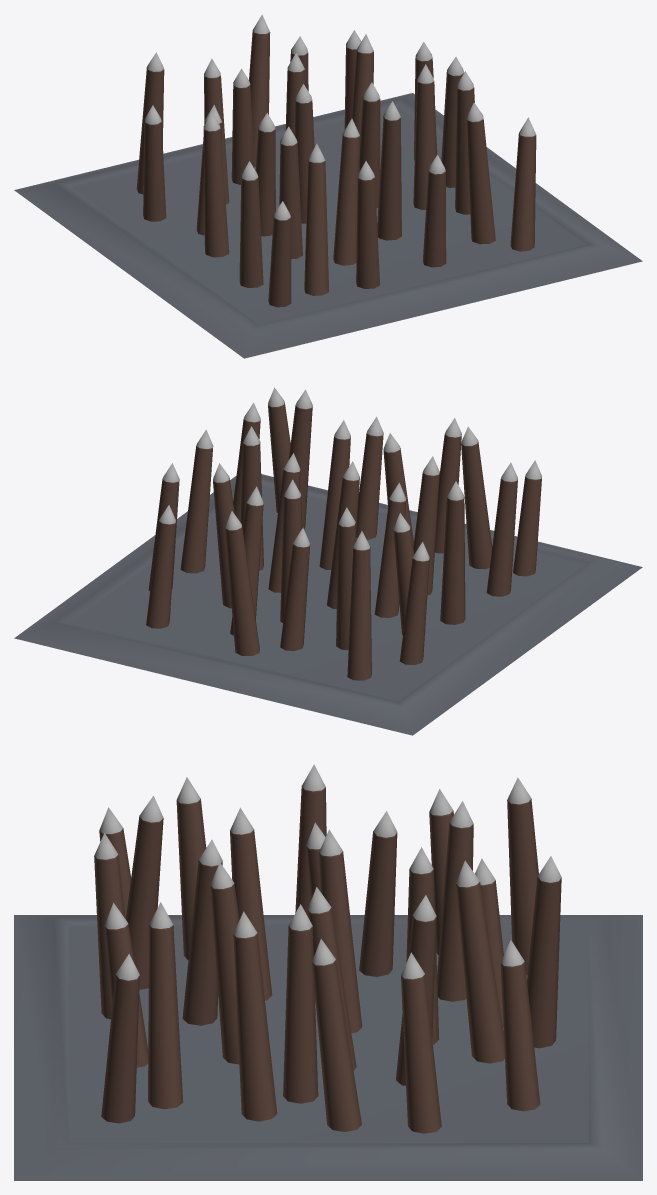
File: spikeTrap.fbx
3 renders of one model, top to bottom at view 1: azimuth 30°, elevation 25°; view 2: azimuth 150°, elevation 25°; view 3: azimuth 270°, elevation 25°, orthographic. The views are drawn at different scales.
Visible parts, largest first — view 1: spikeTrap; view 2: spikeTrap; view 3: spikeTrap.
Boxes of the visible parts, <box> form: spikeTrap: <box>14,14,642,358</box>; spikeTrap: <box>14,387,642,735</box>; spikeTrap: <box>14,764,642,1180</box>.
Bounding box in the file's own units: 228 × 100 × 228.
